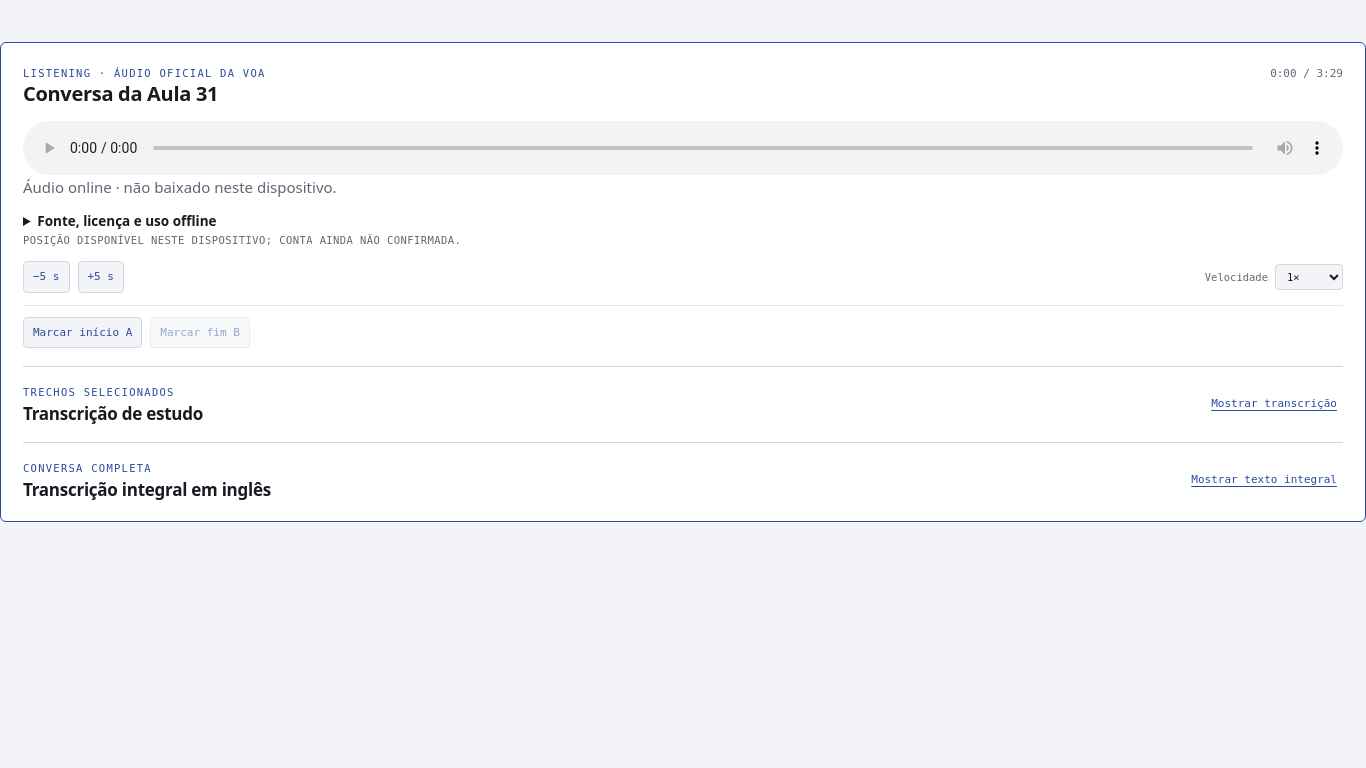
Scenario: LessonAudioPlayer › abre a transcrição, navega até o trecho e revela a tradução
What coordinates should you click on to do the following:
click the button "Mostrar transcrição"
I would click on:
 (1274, 404)
Its box is x1=1205 y1=394 x2=1343 y2=414.
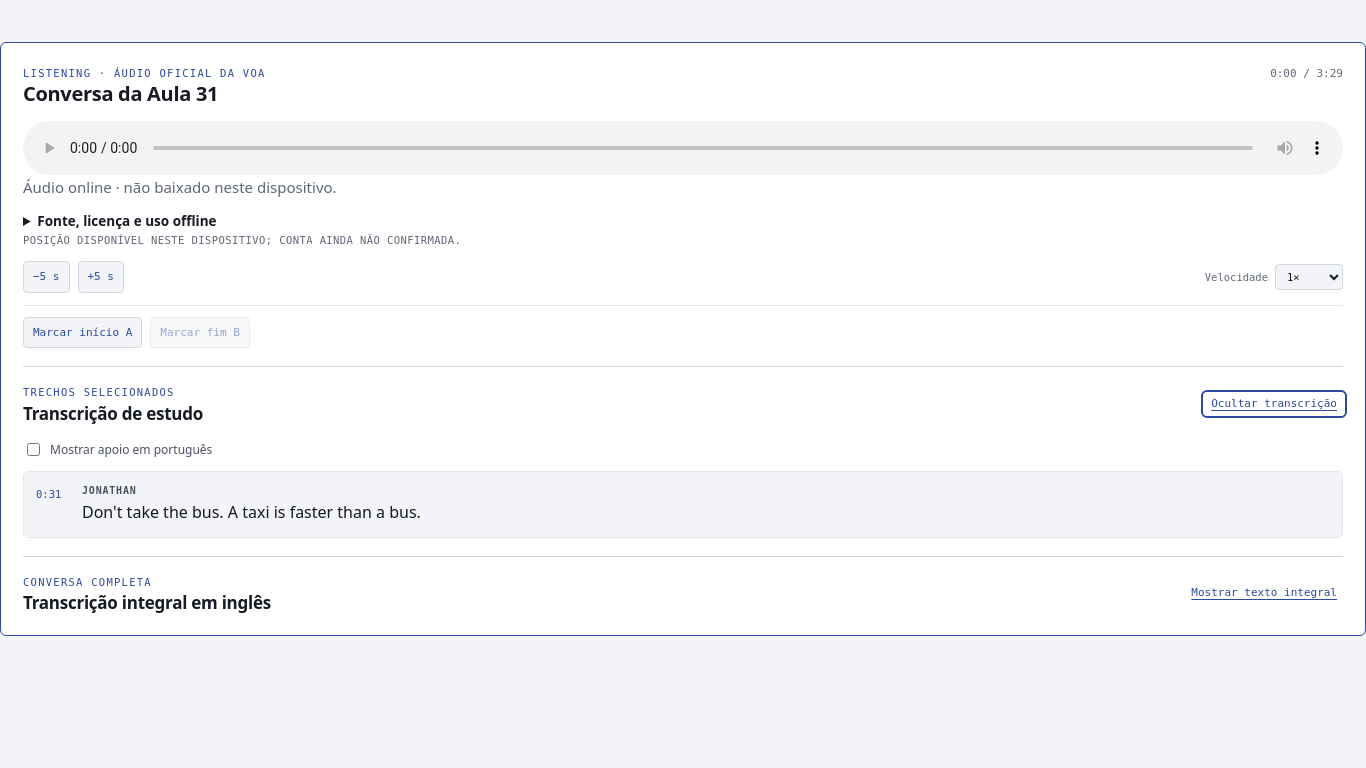
Expected: the text "Não pegue o ônibus. Um táxi é mais rápido que um ônibus." is not shown
Now the text "Don't take the bus. A taxi is faster than a bus." is shown, box x1=82 y1=501 x2=421 y2=525
What coordinates should you click on to do the following:
click the checkbox labelled "Mostrar apoio em português"
I would click on:
 (34, 449)
Its box is x1=27 y1=443 x2=40 y2=456.
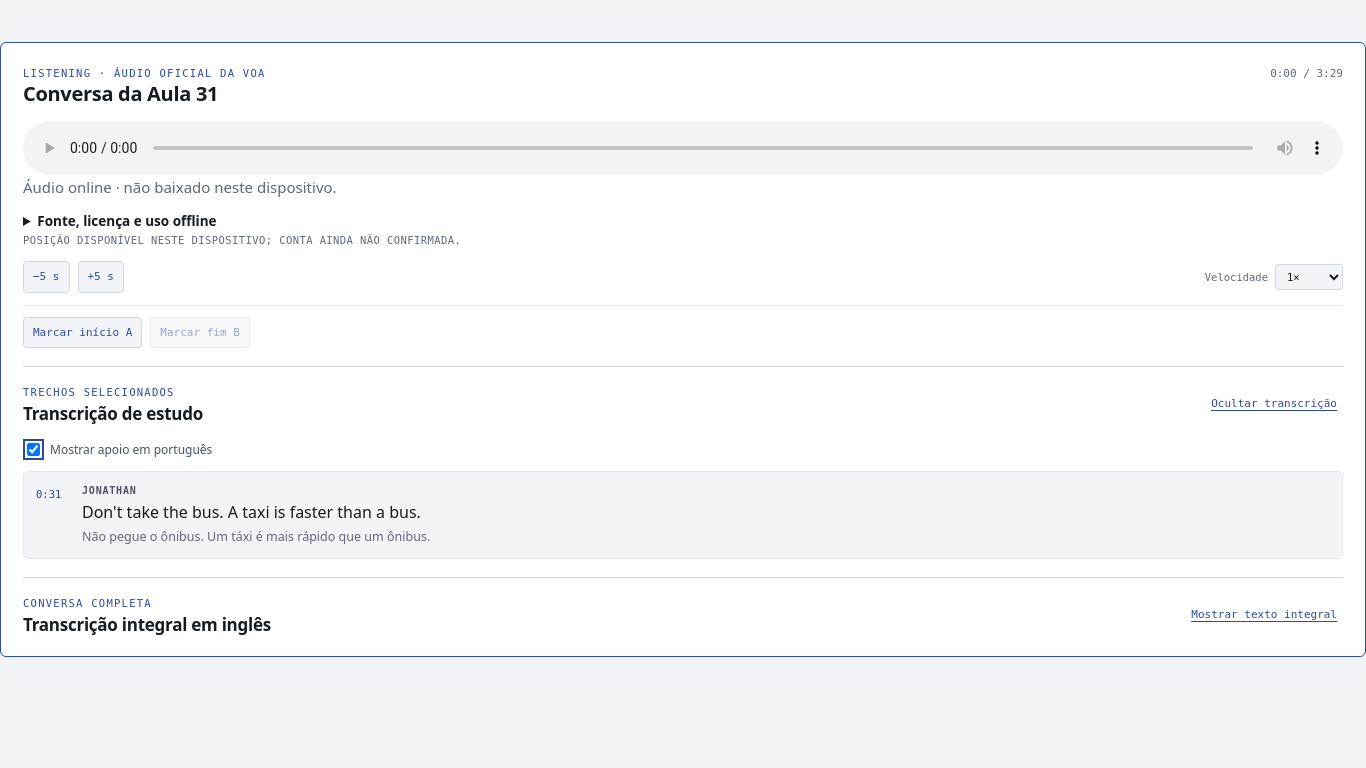
Now the text "Não pegue o ônibus. Um táxi é mais rápido que um ônibus." is shown, box x1=82 y1=528 x2=430 y2=546
What coordinates should you click on to do the following:
click the button with aria-label "Ir para 0:31"
I would click on:
 (109, 490)
Its box is x1=24 y1=472 x2=1342 y2=558.
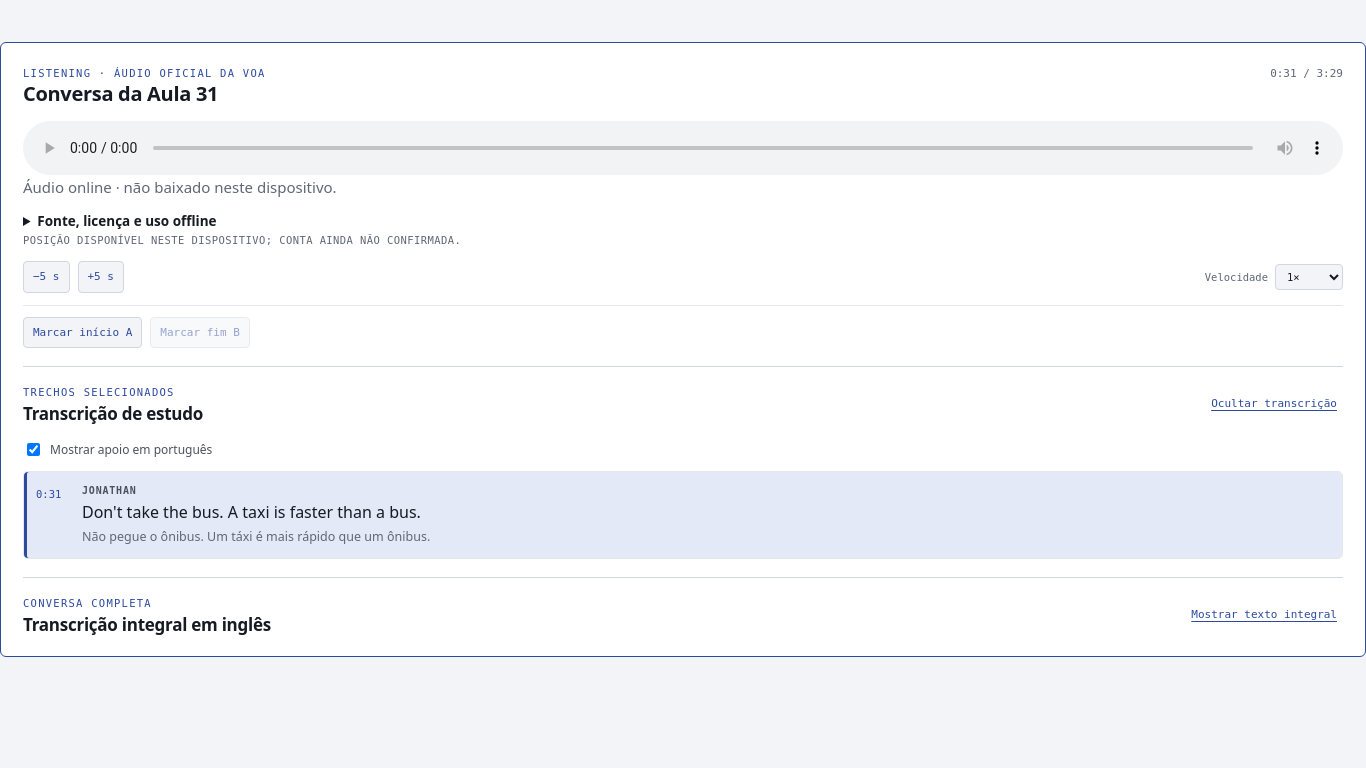
Now the text "0:31 / 3:29" is shown, box x1=1270 y1=65 x2=1343 y2=83
